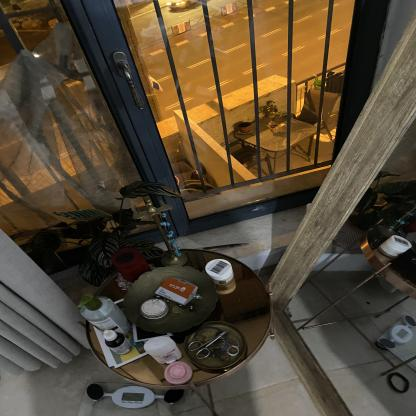Knife: (171, 239, 250, 256)
